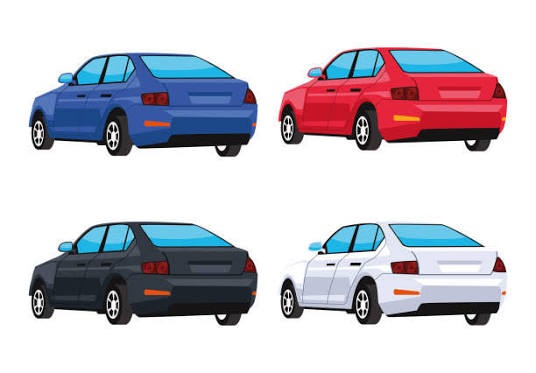car: (24, 50, 262, 155), (275, 45, 505, 150), (272, 47, 508, 149), (28, 53, 258, 156), (282, 223, 507, 323), (26, 227, 249, 324)
